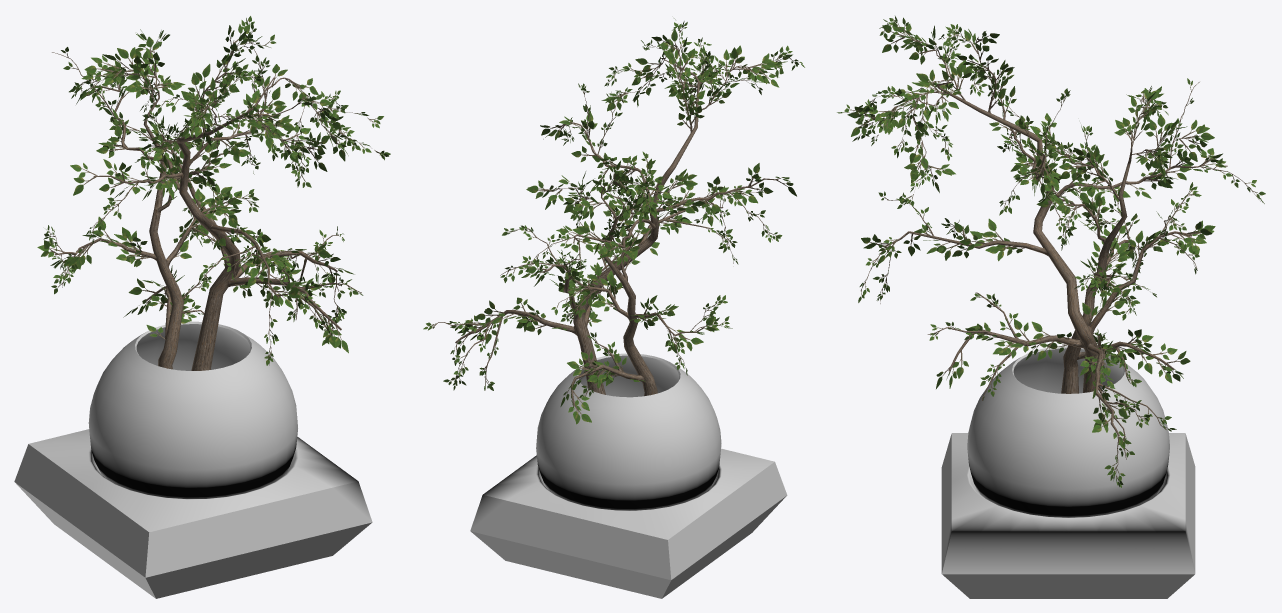
The model's file is SM_VegetationE.fbx.
The picture shows the model from 3 angles, left to right: view 1: azimuth 30°, elevation 25°; view 2: azimuth 150°, elevation 25°; view 3: azimuth 270°, elevation 25°; orthographic projection. The views are drawn at different scales.
Parts seen in each view (by area): view 1: SM_VegetationE_LOD0; view 2: SM_VegetationE_LOD0; view 3: SM_VegetationE_LOD0.
Part boxes in pixels (<box>): SM_VegetationE_LOD0: <box>14,16,390,598</box>; SM_VegetationE_LOD0: <box>423,18,804,598</box>; SM_VegetationE_LOD0: <box>837,16,1265,598</box>.
Bounding box in the file's own units: 117 × 129 × 176.
